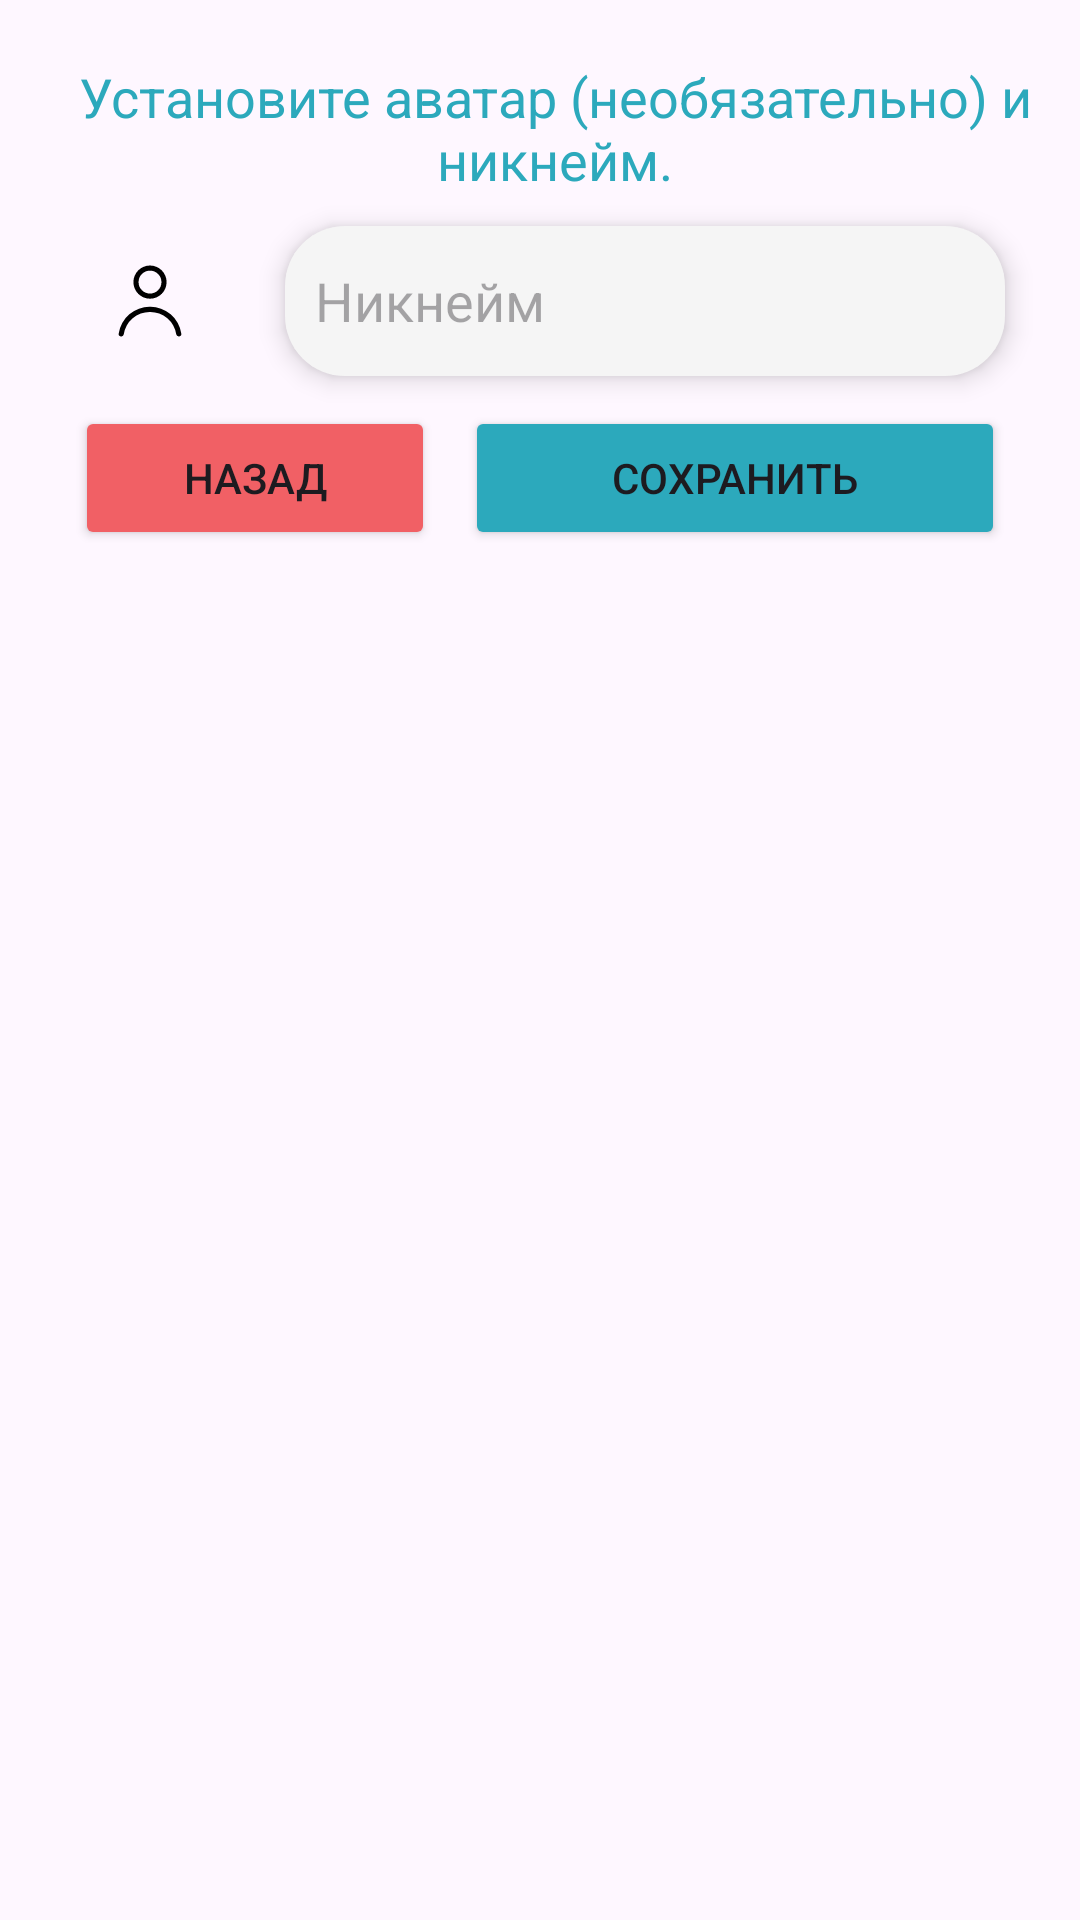

Icons on this 1080x1920 Android screen, each with its box as bbox(x1, y1, x2, y2):
user: bbox(118, 265, 182, 337)
